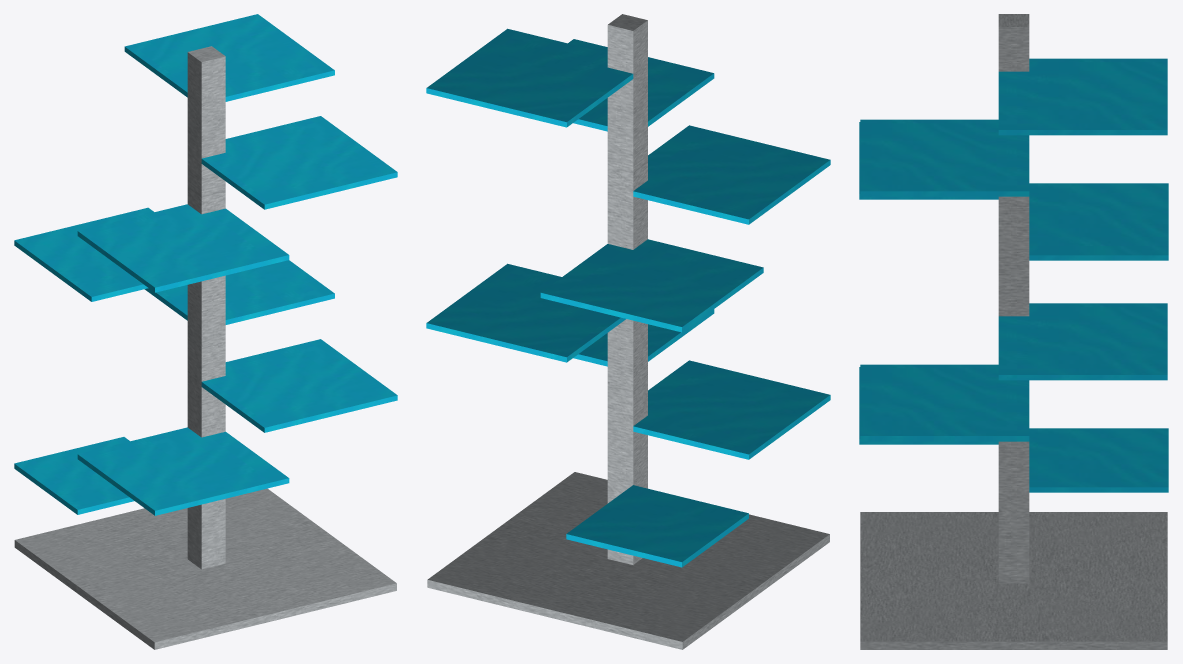
File: Polka_na_ksiazki.glb
The picture shows the model from 3 angles, left to right: view 1: azimuth 30°, elevation 25°; view 2: azimuth 150°, elevation 25°; view 3: azimuth 270°, elevation 25°; orthographic projection. The views are drawn at different scales.
Parts seen in each view (by area): view 1: SketchUp; view 2: SketchUp; view 3: SketchUp.
Boxes of the visible parts, <box> form: SketchUp: <box>14,14,397,649</box>; SketchUp: <box>426,14,830,649</box>; SketchUp: <box>859,14,1168,649</box>.
Size of the model in its own units: 39.51 by 79.92 by 39.65.
3 materials, 2 textured.
